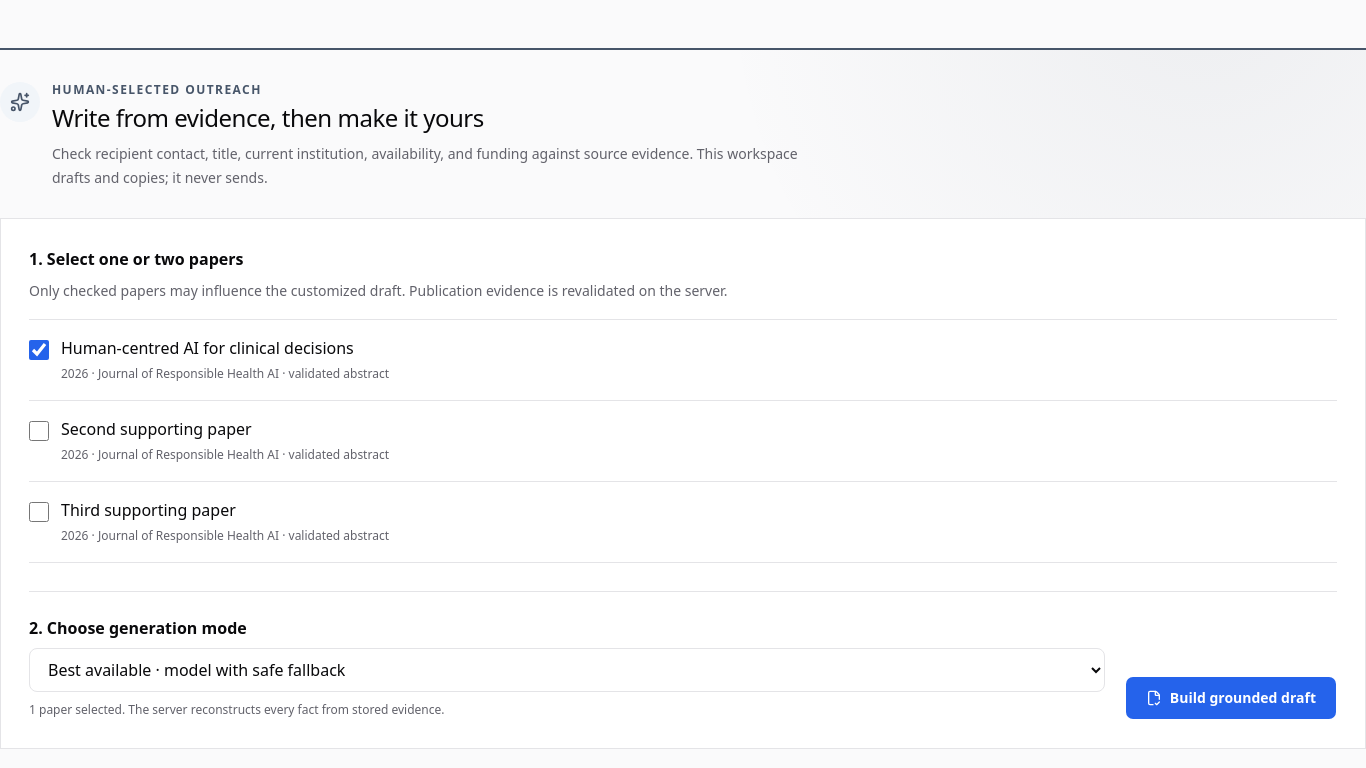
LiveOutreachWorkspace › enforces the two-paper selection limit
Click the checkbox labelled "Second supporting paper".
click(39, 431)  # box x1=29 y1=421 x2=49 y2=441
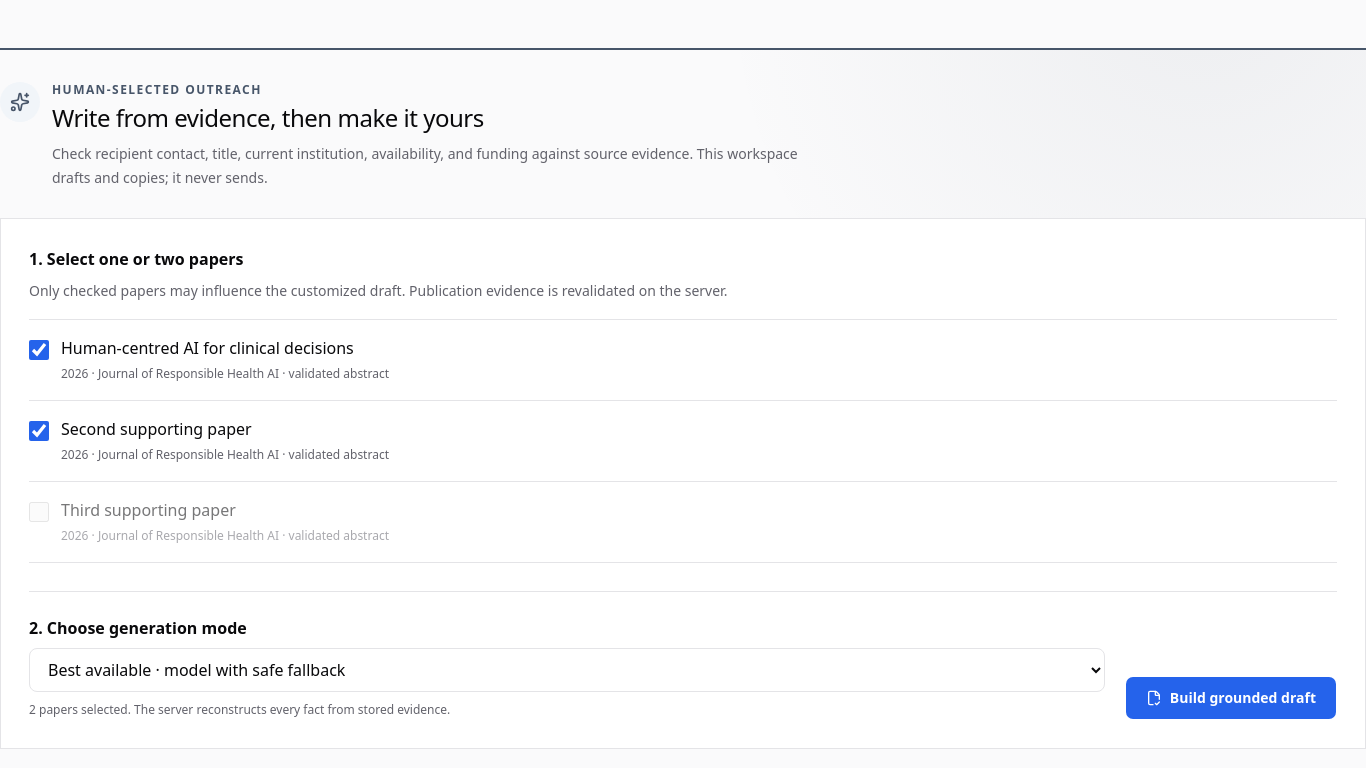
Expected: the checkbox labelled "Third supporting paper" is disabled, x1=29 y1=502 x2=49 y2=522
Click the checkbox labelled "Human-centred AI".
click(39, 350)  # box x1=29 y1=340 x2=49 y2=360
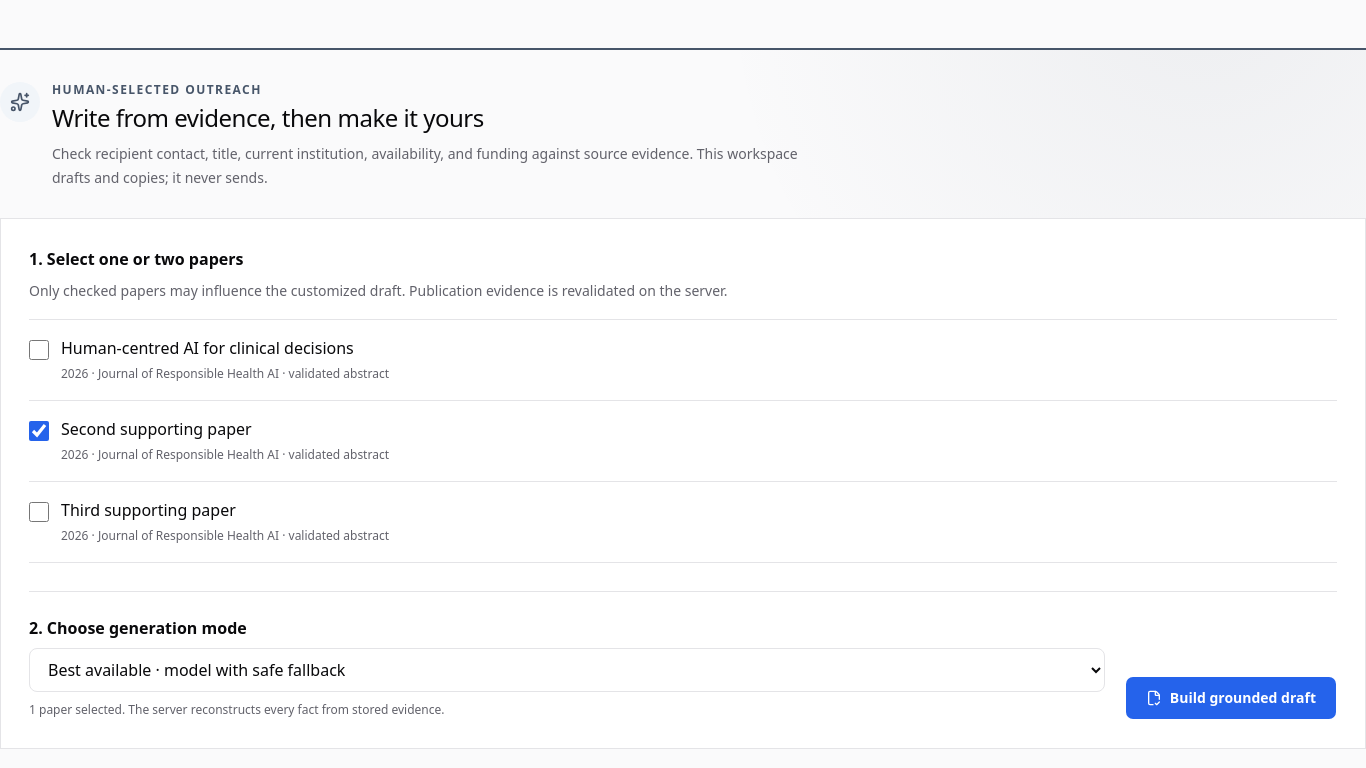
Expected: the checkbox labelled "Third supporting paper" is enabled, x1=29 y1=502 x2=49 y2=522
